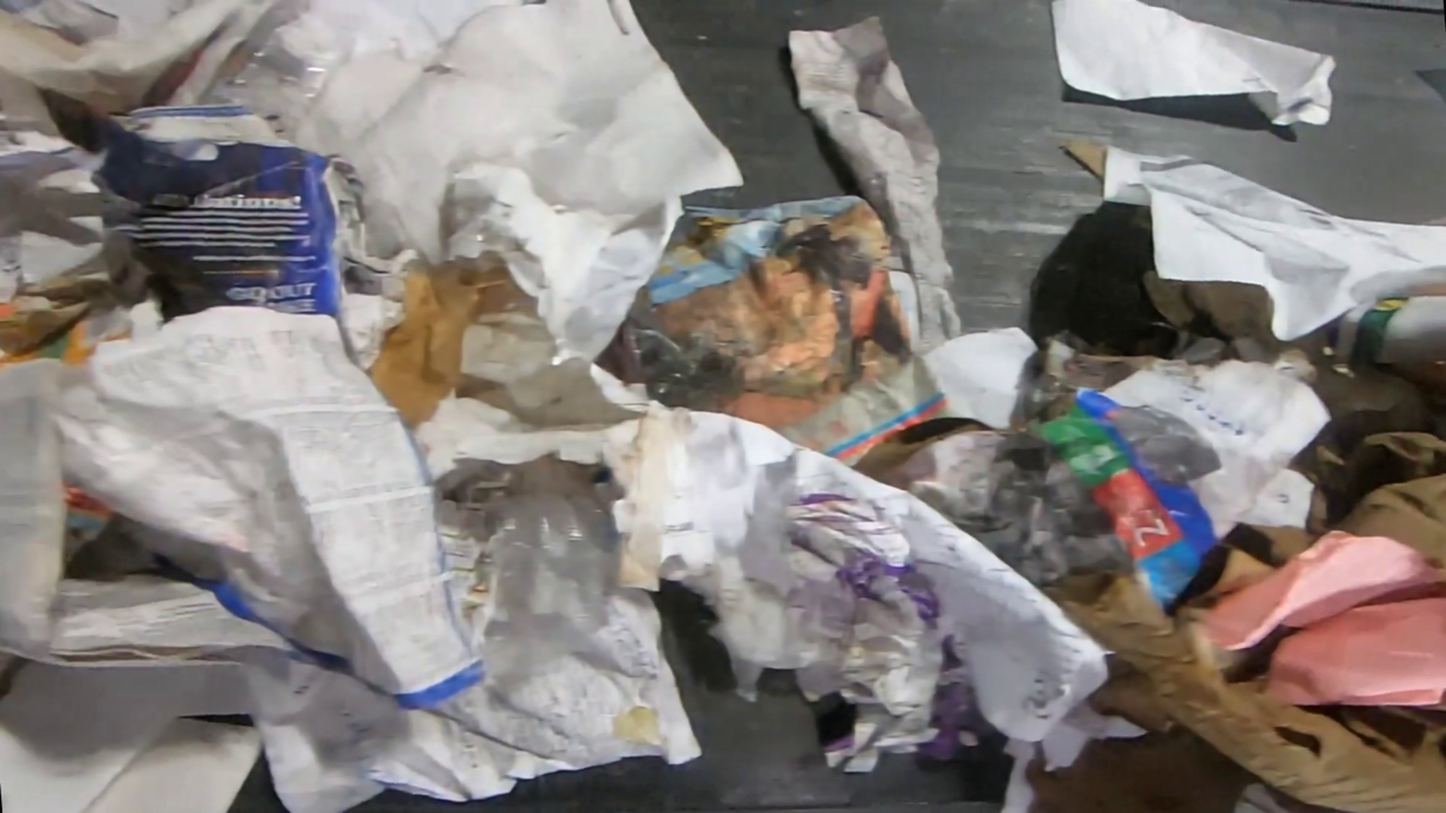cardboard: (1024, 546, 1446, 813), (1245, 327, 1446, 573), (1137, 269, 1285, 366)
plastic: (431, 478, 616, 674), (202, 7, 347, 149)
